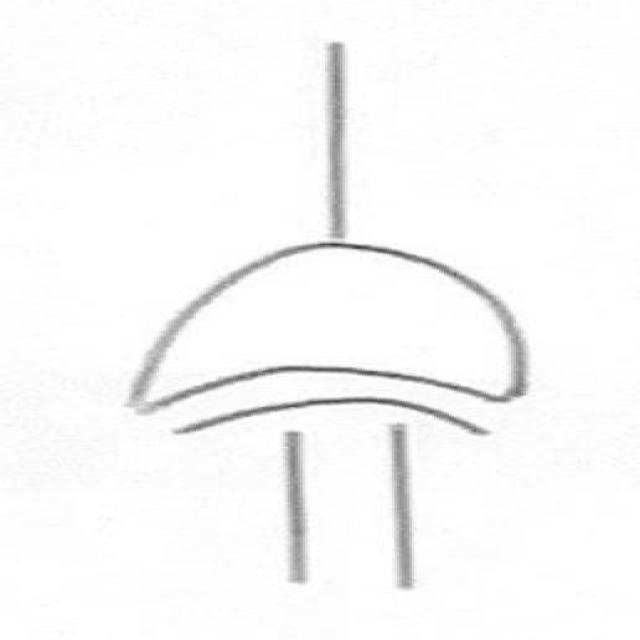XOR: (100, 206, 578, 476)
